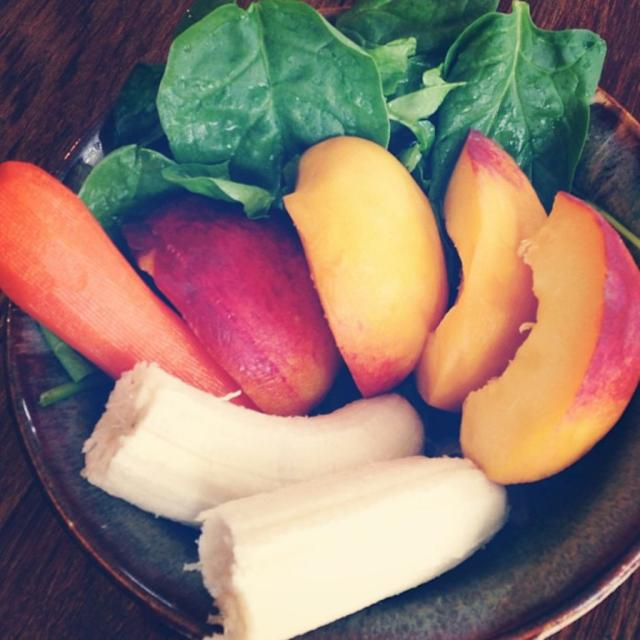Peach: (458, 192, 639, 488), (114, 192, 340, 418), (281, 139, 464, 400), (416, 127, 548, 413)
